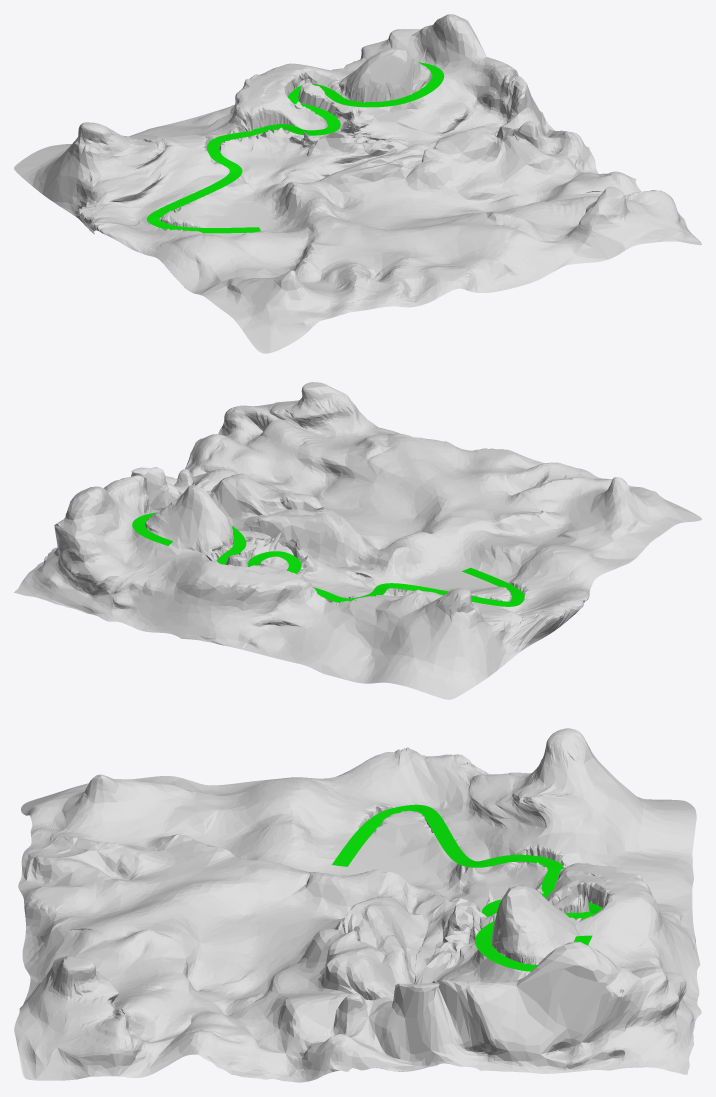
File: rockymount.fbx
The picture shows the model from 3 angles, top to bottom: view 1: azimuth 30°, elevation 25°; view 2: azimuth 150°, elevation 25°; view 3: azimuth 270°, elevation 25°; orthographic projection. The views are drawn at different scales.
Visible parts, largest first — view 1: Grid, Plane.001; view 2: Grid, Plane.001; view 3: Grid, Plane.001.
Part boxes in pixels (box(x1,y1,x2,y2)): Grid: box(14, 14, 701, 353); Plane.001: box(147, 62, 444, 233); Grid: box(14, 382, 701, 699); Plane.001: box(132, 512, 524, 606); Grid: box(14, 728, 701, 1082); Plane.001: box(332, 804, 602, 971).
Bounding box in the file's own units: 1031 × 189 × 992.
